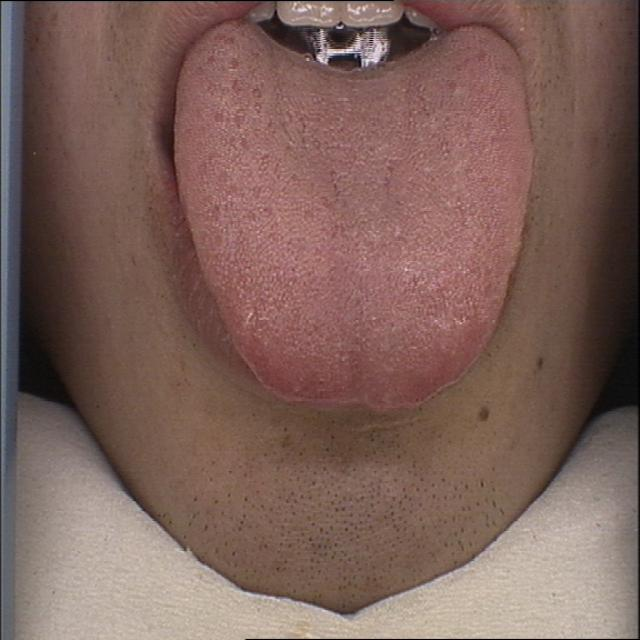tongue: (162, 17, 544, 420)
